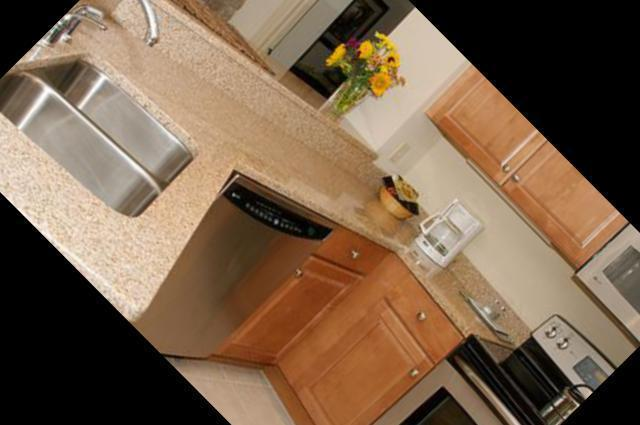Lavaplatos: (0, 0, 274, 253)
